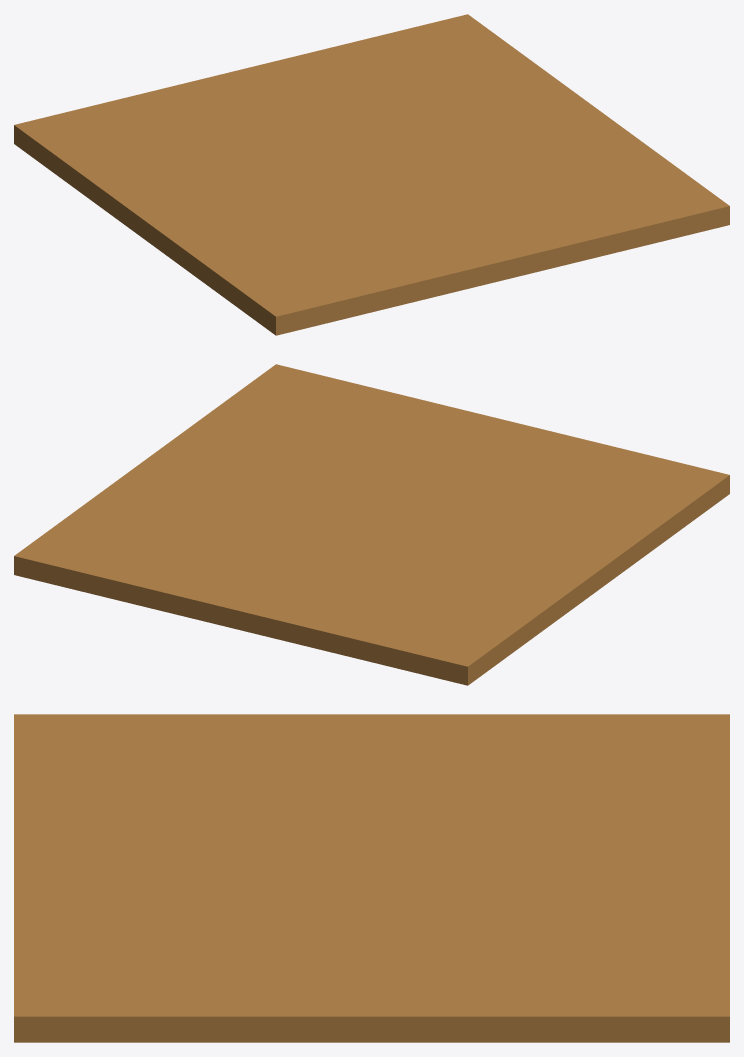
File: ceiling.fbx
The picture shows the model from 3 angles, top to bottom: view 1: azimuth 30°, elevation 25°; view 2: azimuth 150°, elevation 25°; view 3: azimuth 270°, elevation 25°; orthographic projection. The views are drawn at different scales.
Visible parts, largest first — view 1: Ceiling; view 2: Ceiling; view 3: Ceiling.
Part boxes in pixels (x1=…): Ceiling: x1=14, y1=14, x2=729, y2=335; Ceiling: x1=14, y1=364, x2=729, y2=685; Ceiling: x1=14, y1=714, x2=729, y2=1042.
Size of the model in its own units: 500 by 20 by 500.
